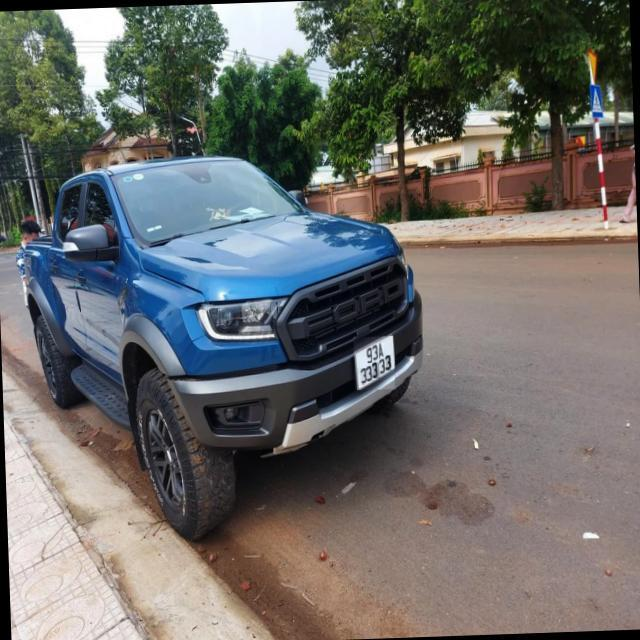car: (7, 149, 429, 549)
plate: (347, 333, 399, 393)
